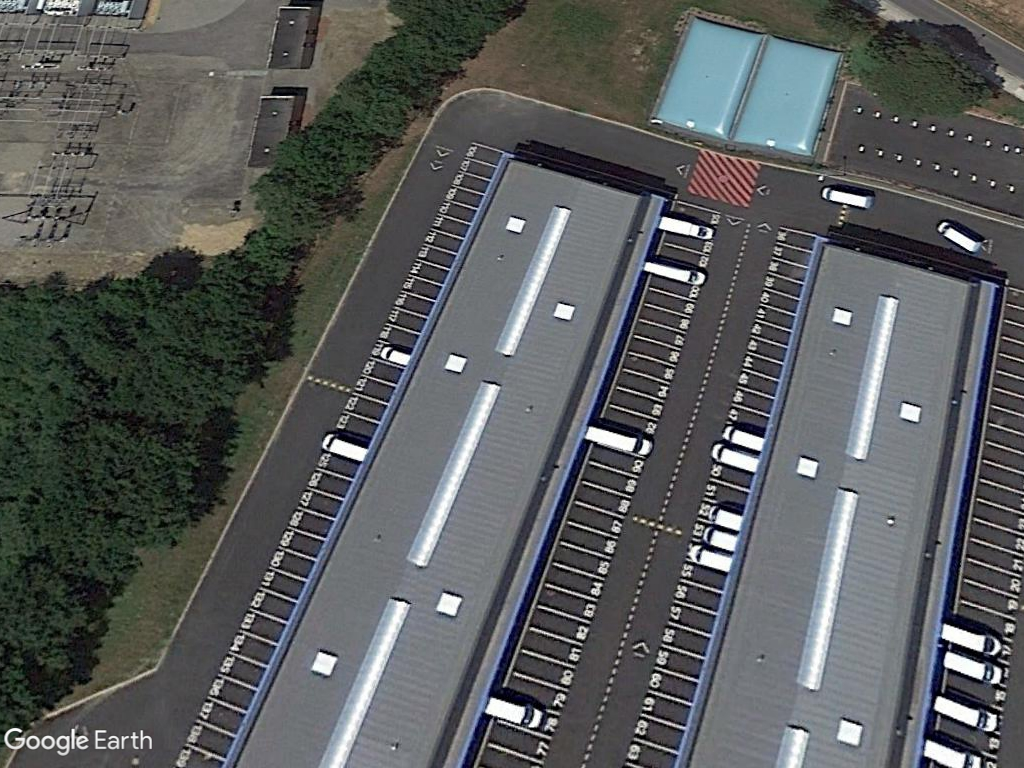van: (932, 645, 1002, 687), (587, 419, 657, 458), (928, 693, 998, 732), (478, 694, 547, 730), (938, 620, 1007, 655), (642, 259, 713, 289), (932, 217, 988, 255), (656, 212, 720, 241), (317, 428, 370, 462), (818, 183, 876, 210)
